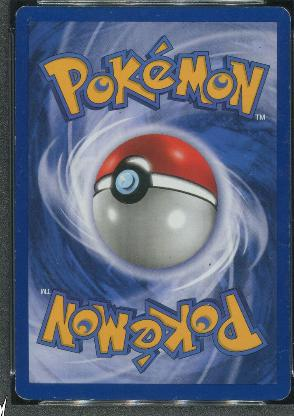Corner Wear: (8, 2, 43, 20), (11, 376, 32, 400), (272, 378, 291, 403), (275, 2, 292, 26)
Edge Wear: (284, 162, 290, 336), (51, 5, 271, 8), (13, 84, 16, 212), (285, 31, 289, 115), (63, 396, 98, 400), (13, 248, 16, 286), (14, 48, 15, 68)
Scratch: (259, 278, 274, 324), (234, 164, 257, 182), (279, 124, 290, 148), (275, 344, 287, 360), (15, 162, 22, 188), (252, 358, 262, 374), (274, 240, 288, 249), (266, 250, 275, 264), (216, 148, 225, 160), (255, 118, 263, 130), (15, 224, 22, 235), (170, 394, 178, 400), (206, 261, 211, 267), (53, 396, 57, 398)
